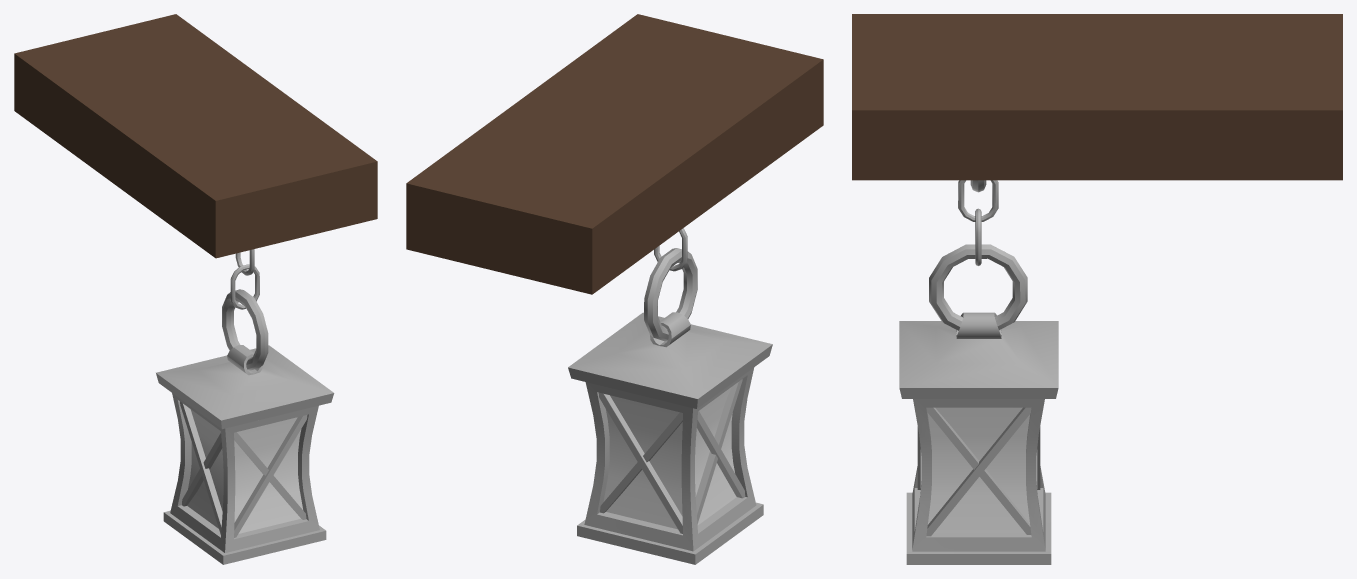
Rendered from Lamparina.fbx.
3 renders of one model, left to right at view 1: azimuth 30°, elevation 25°; view 2: azimuth 150°, elevation 25°; view 3: azimuth 270°, elevation 25°, orthographic. The views are drawn at different scales.
Visible parts, largest first — view 1: Lamparina; view 2: Lamparina; view 3: Lamparina.
Boxes of the visible parts, x1,y1,x2,y2 form: Lamparina: (14,14,377,564); Lamparina: (406,14,823,564); Lamparina: (852,14,1342,564).
Size of the model in its own units: 95.12 by 218 by 205.
